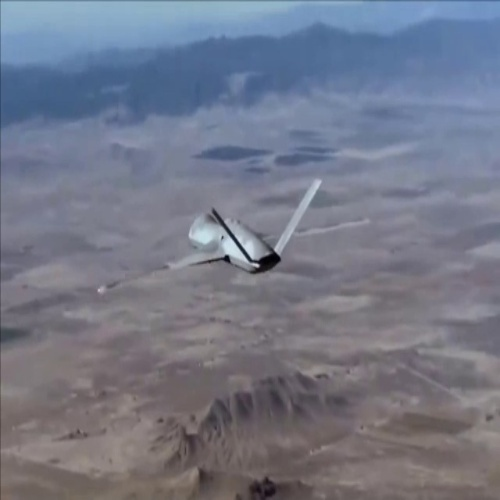uav: (97, 177, 374, 295)
